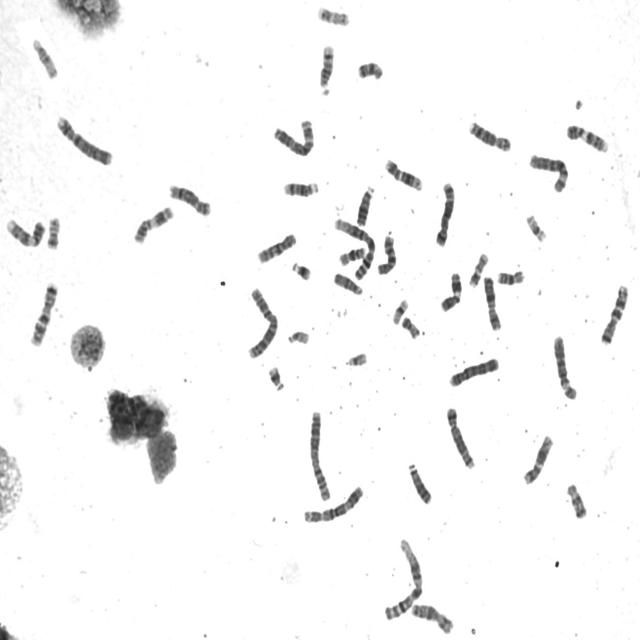A1: (381, 535, 425, 622), (331, 215, 377, 281)
A2: (244, 284, 280, 360), (306, 407, 332, 502)
A3: (301, 482, 365, 525), (270, 116, 316, 158)
B4: (54, 112, 114, 167), (447, 354, 500, 389)
B5: (444, 404, 477, 472), (433, 178, 456, 248)
C10: (255, 230, 298, 265), (376, 232, 398, 276)
C11: (132, 202, 176, 246), (438, 269, 464, 314)
C12: (520, 431, 554, 486), (382, 155, 424, 192)
C6: (551, 332, 579, 401), (526, 151, 570, 194)
C7: (27, 279, 59, 348), (598, 280, 630, 346)
C8: (166, 180, 213, 218), (466, 117, 513, 153)
C9: (564, 120, 610, 155), (4, 215, 46, 249)
D13: (405, 460, 433, 506), (354, 182, 376, 228)
D14: (317, 41, 335, 90), (281, 178, 320, 198)
D15: (30, 34, 59, 80), (332, 270, 364, 296)
E16: (337, 243, 368, 268), (494, 266, 526, 286)
E17: (467, 249, 490, 289), (315, 2, 351, 27)
E18: (564, 480, 588, 521), (355, 58, 385, 81)
F19: (524, 210, 548, 243), (390, 296, 410, 326)
F20: (44, 213, 62, 251), (399, 313, 421, 340)
G21: (266, 363, 285, 393), (290, 259, 312, 283)
G22: (343, 349, 368, 368), (286, 327, 310, 346)
X: (409, 600, 455, 636), (481, 274, 503, 332)
